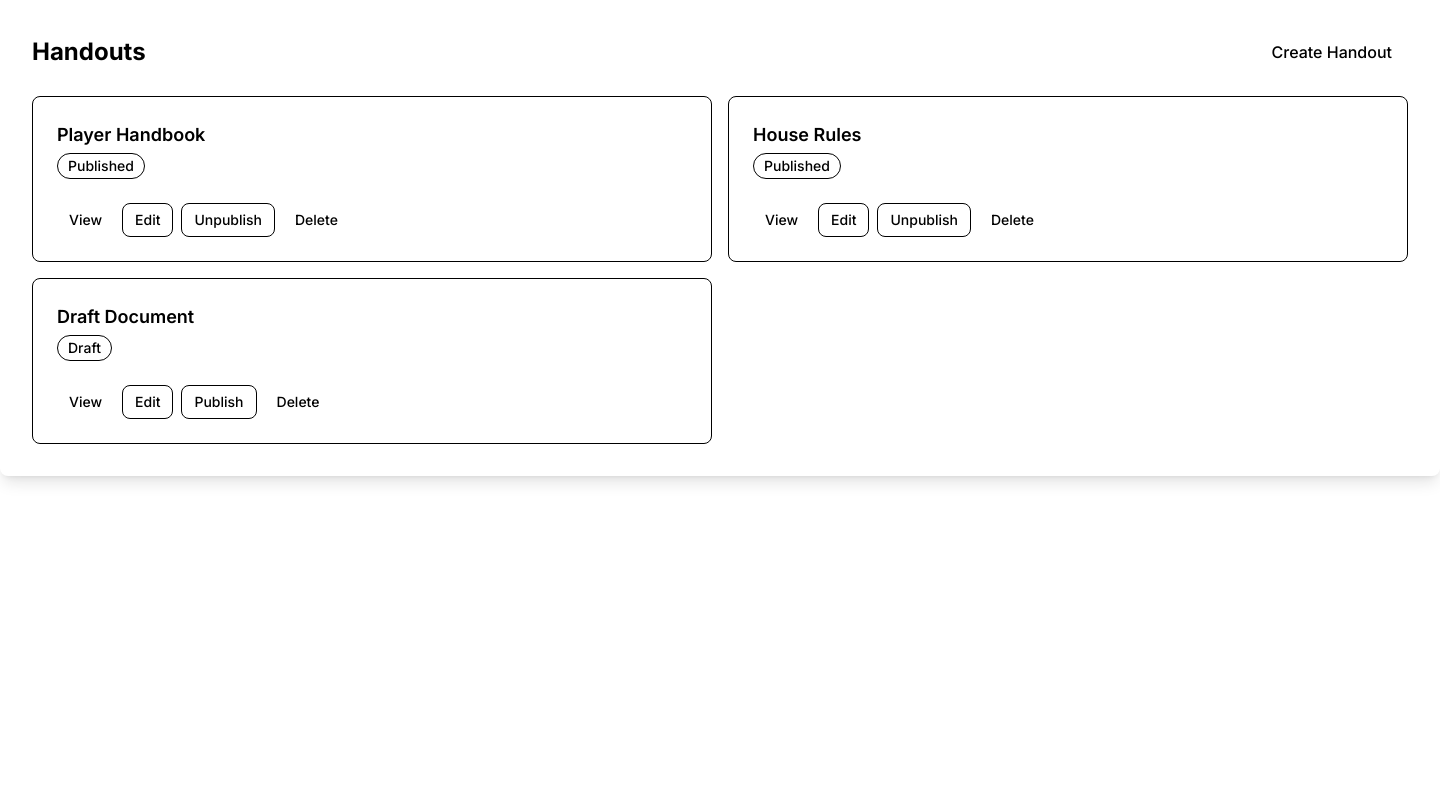
HandoutsList › View Handout › switches to view mode when handout viewed
// Click view on first handout
What coordinates should you click on to do the following:
click the link "View" below "Player Handbook"
I would click on:
 (86, 220)
Its box is [69,211,102,228].
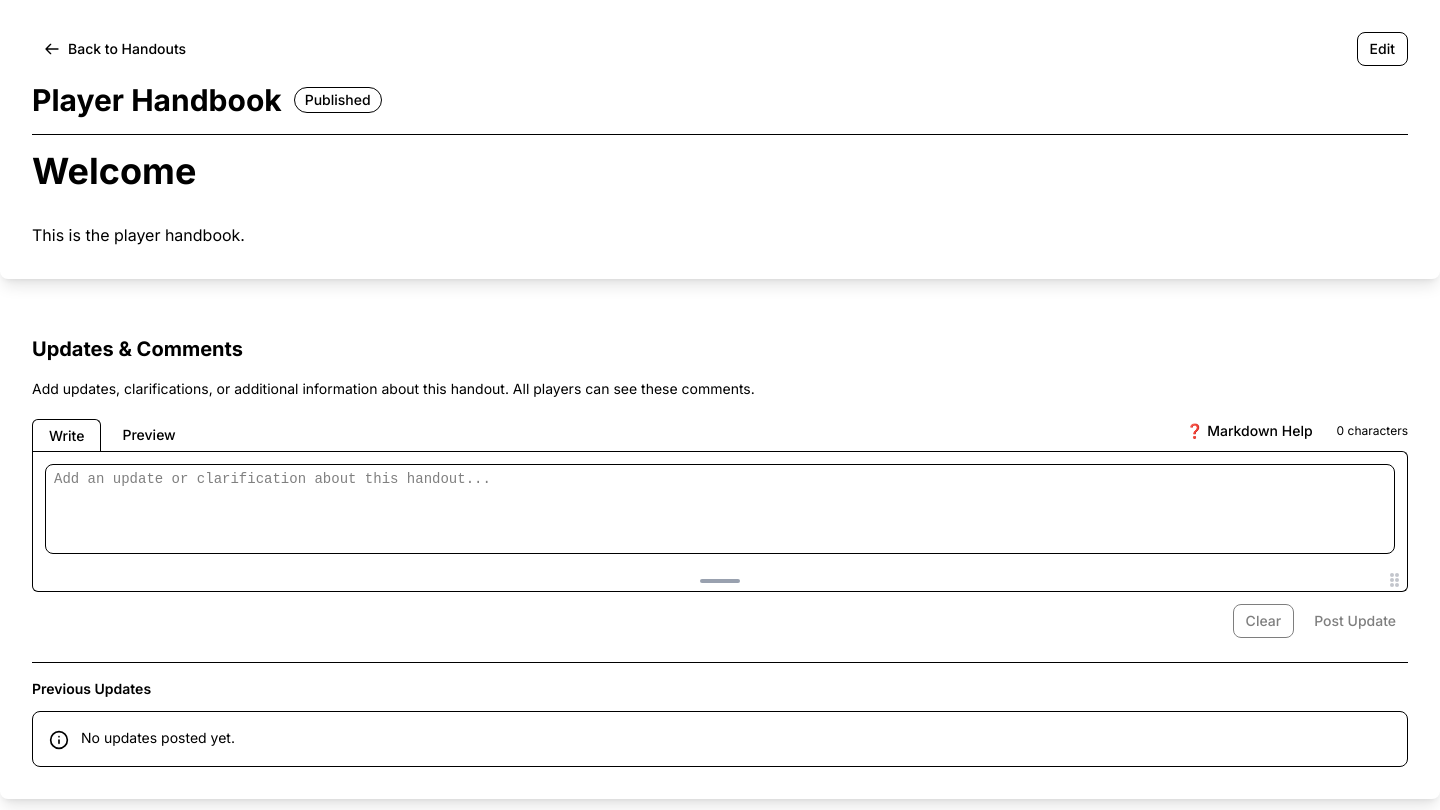
Result: the button "Back to Handouts" is shown at [32,33,198,65]
Result: the heading "Player Handbook" is shown at [32,82,282,118]
